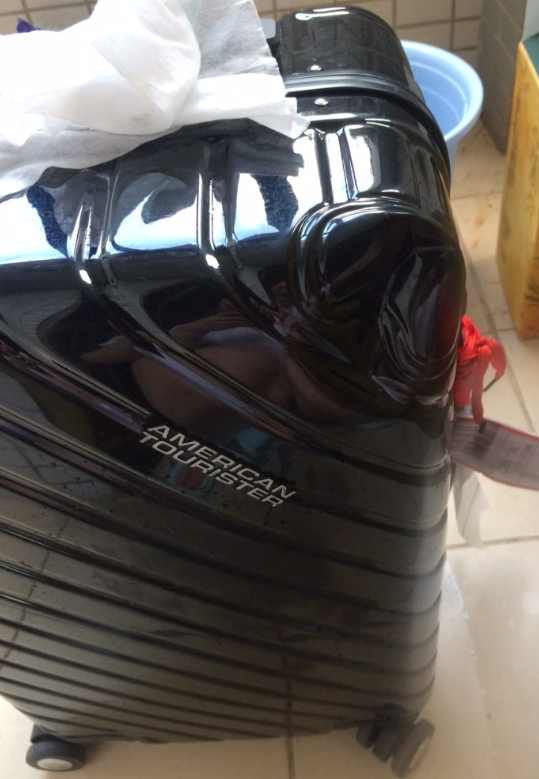rupture: (317, 212, 463, 380)
